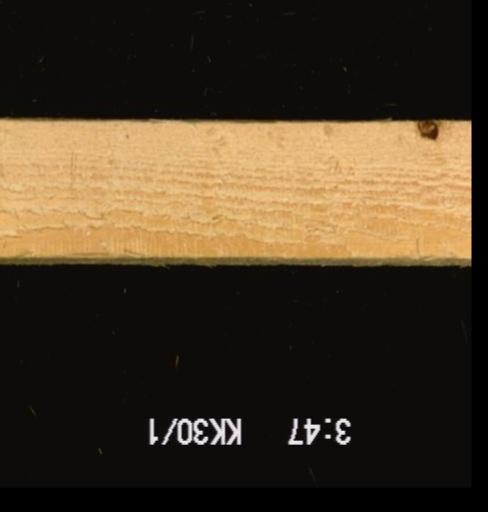edge_knot: (414, 118, 439, 140)
split: (62, 246, 110, 260)
